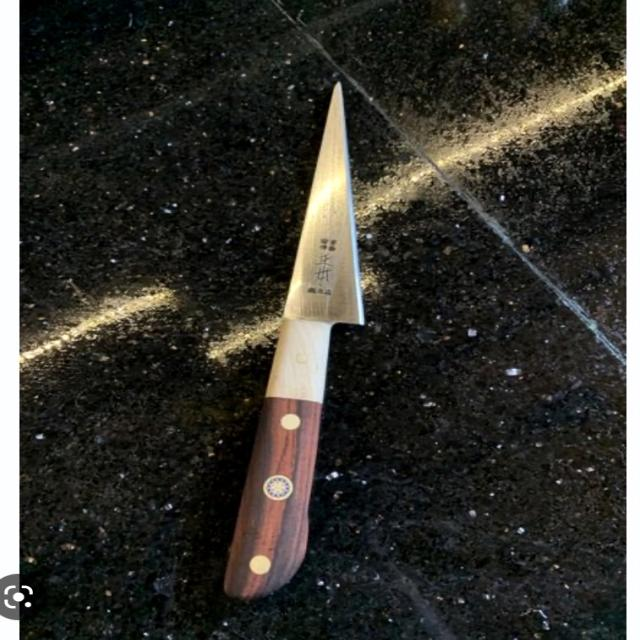knife: (177, 73, 444, 611)
